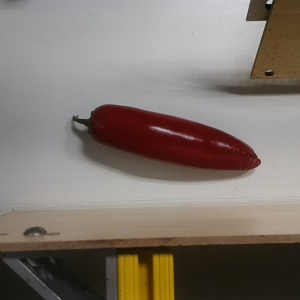Cut Point: (79, 101, 108, 143)
